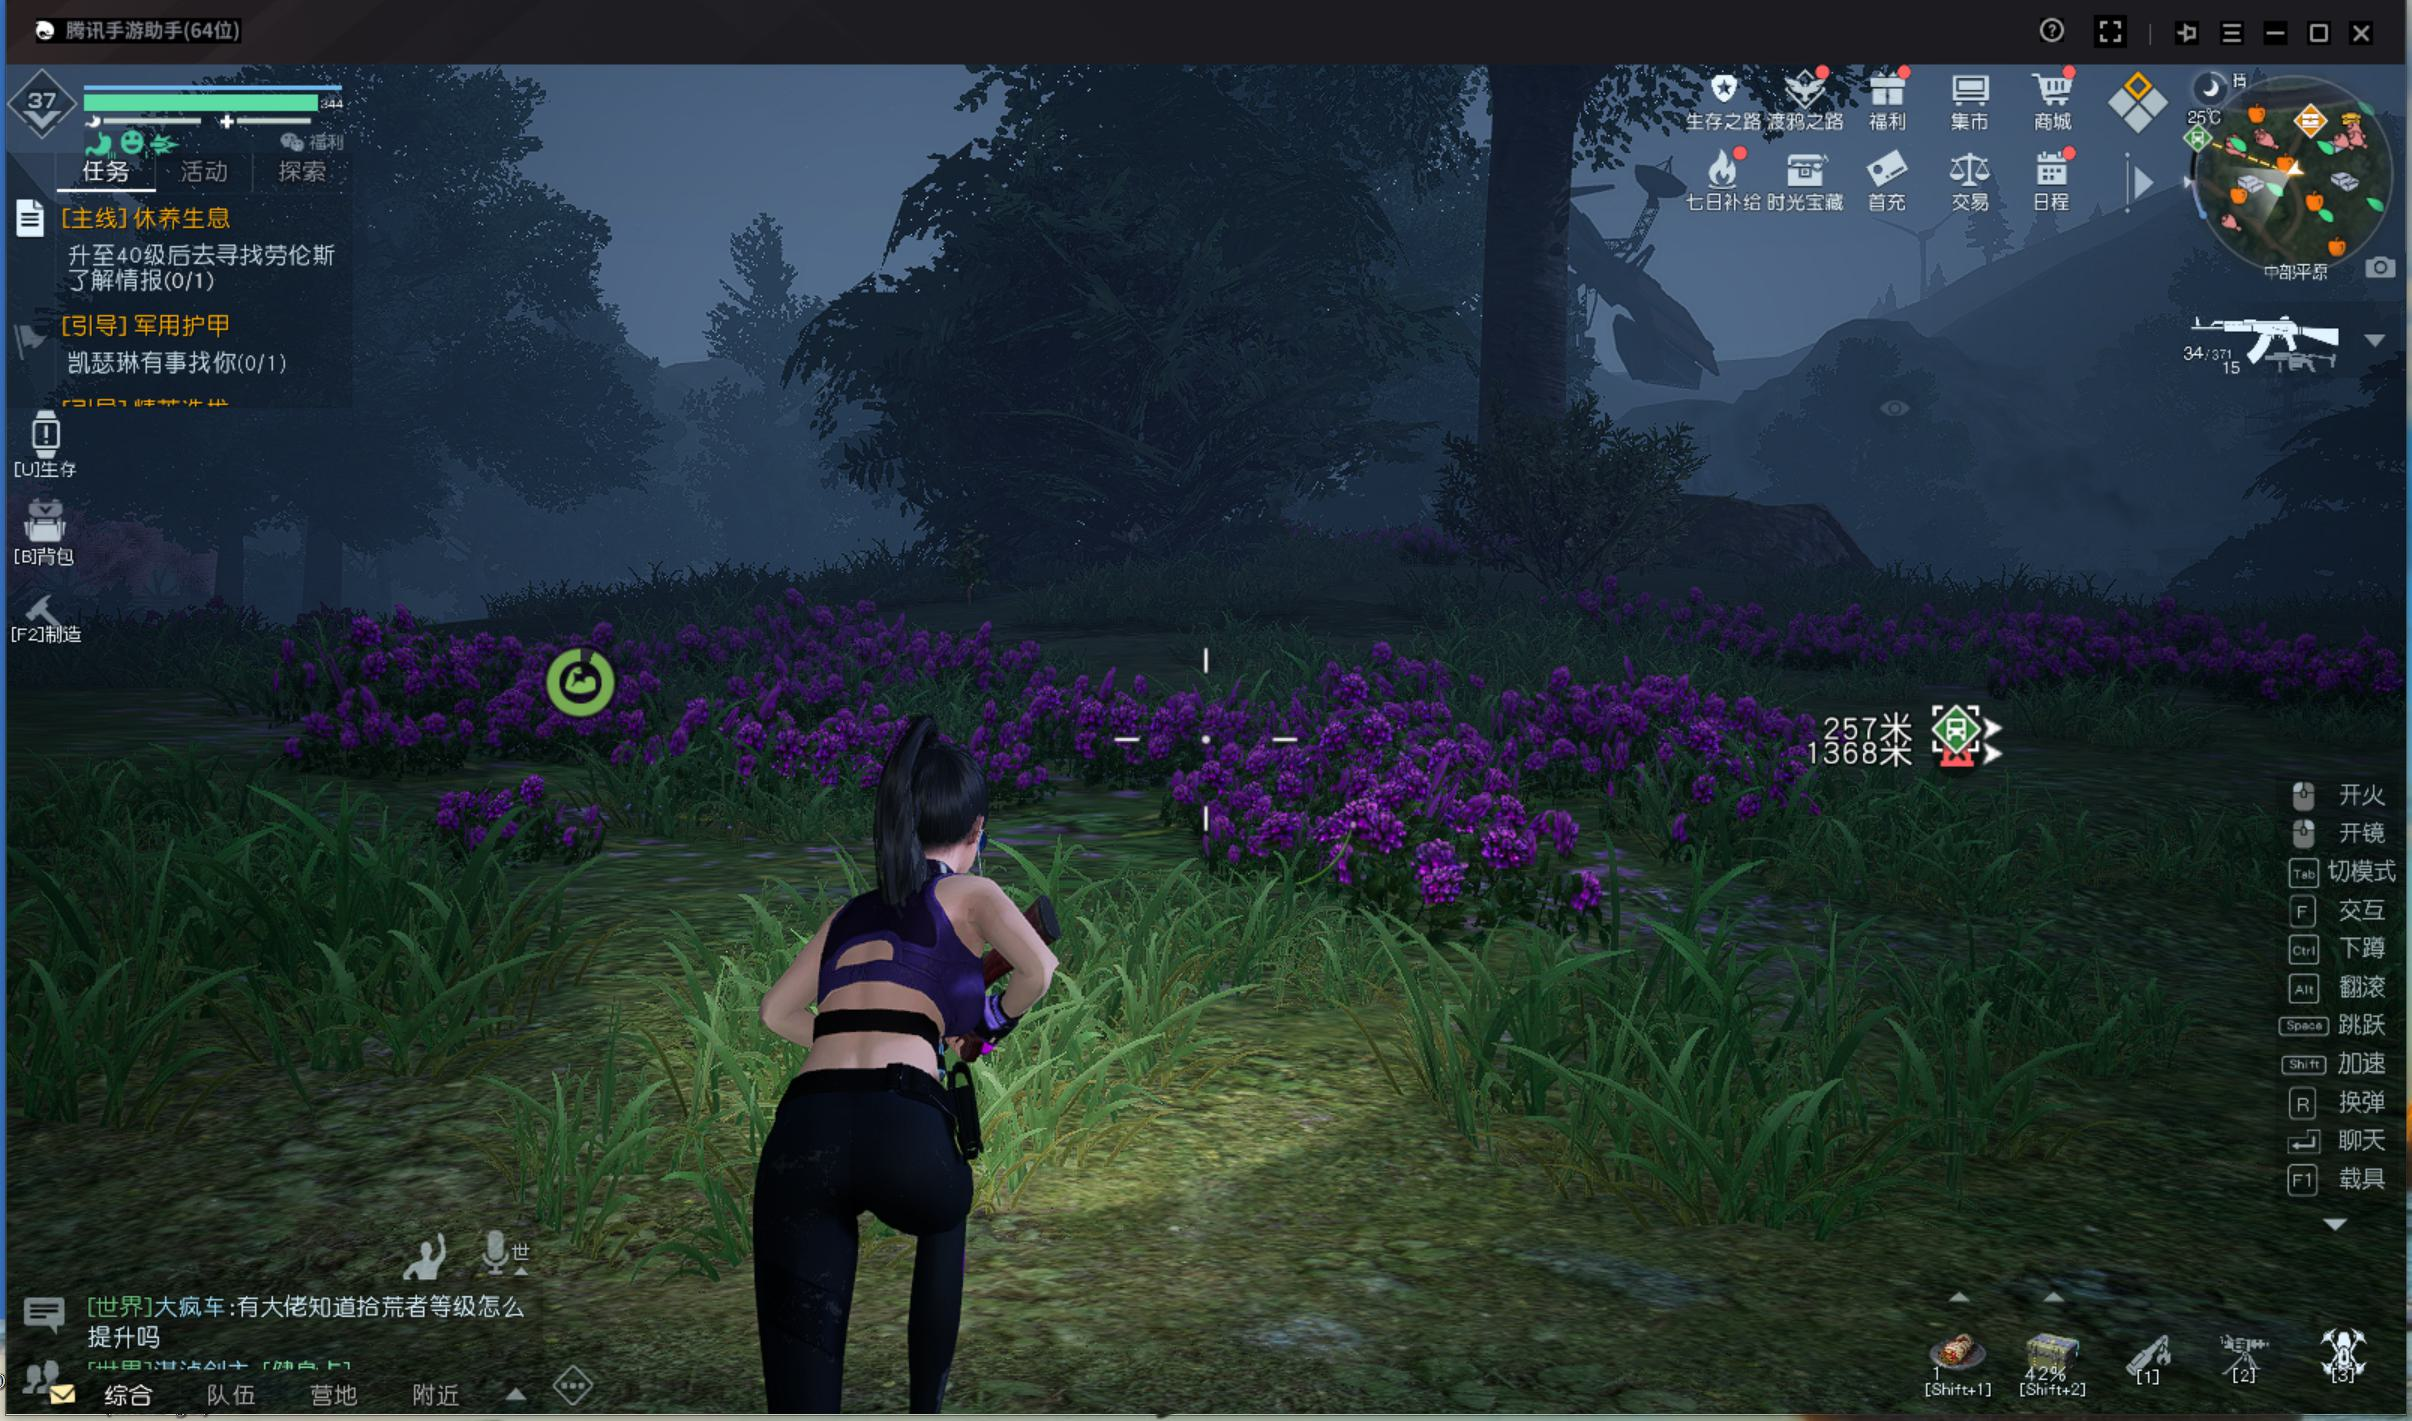tree: (1455, 122, 1593, 601), (293, 535, 352, 634), (211, 541, 249, 623)
